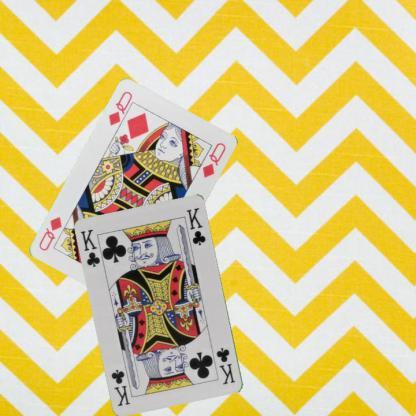Kc: (78, 226, 102, 269), (214, 345, 237, 386)
Qd: (106, 88, 136, 134)
